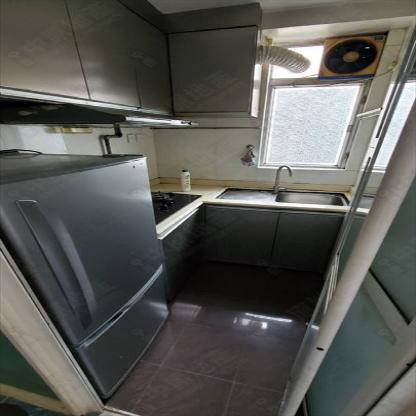Cupboard: (0, 1, 253, 115), (204, 204, 339, 270)
Exhaust Fan: (323, 34, 385, 78)
Exhaust Hood: (4, 104, 198, 134)
Faucet: (267, 165, 297, 190)
Fridge: (0, 150, 170, 402)
Sink: (218, 188, 349, 205)
Stove: (155, 189, 201, 223)
